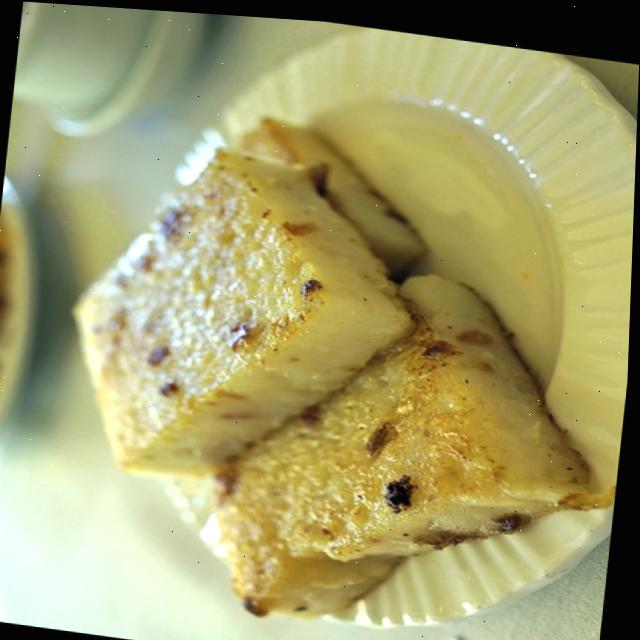蛋糕甜品: (24, 2, 640, 640)
